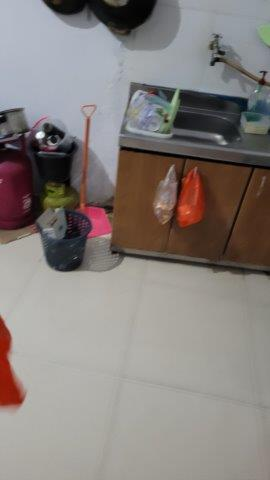plastik: (179, 167, 205, 237), (154, 164, 177, 225)
